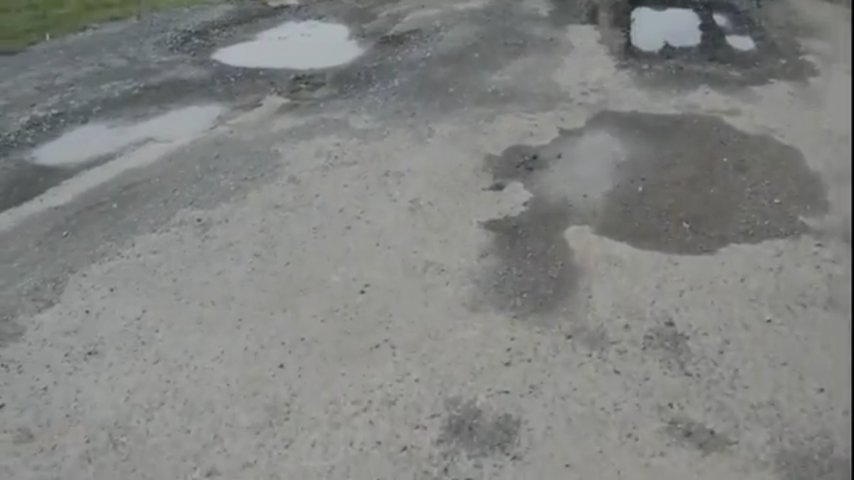pothole: (521, 85, 823, 297)
